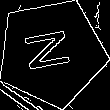N_E: (23, 28, 80, 77)
